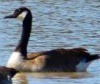goose: (2, 7, 100, 78)
